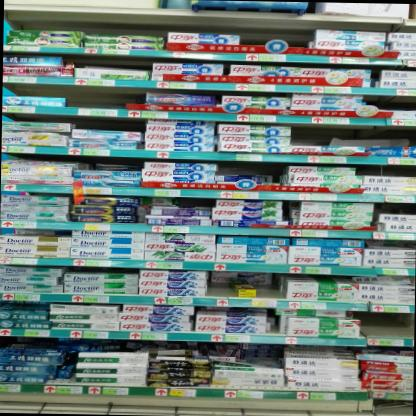empty_space: (70, 84, 129, 117), (364, 310, 414, 346)
